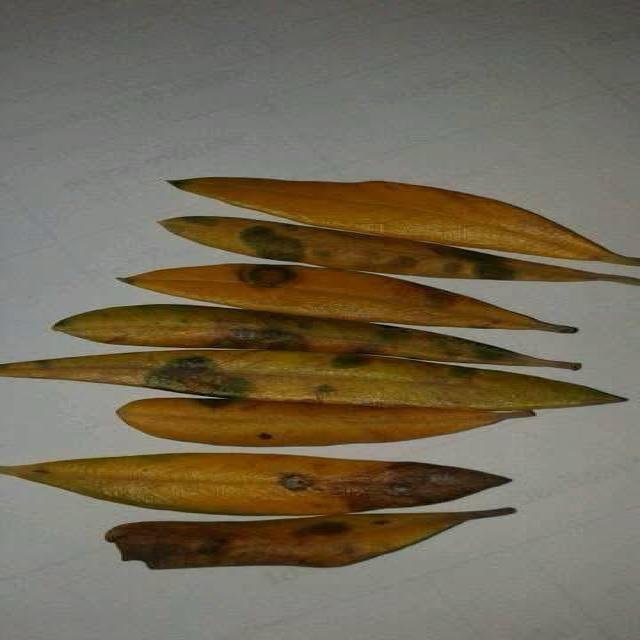Peacock Eye: (171, 177, 638, 265), (2, 351, 624, 411), (53, 304, 580, 369), (160, 218, 638, 284), (0, 453, 485, 515), (123, 264, 558, 331), (105, 512, 505, 569), (117, 398, 533, 446)
